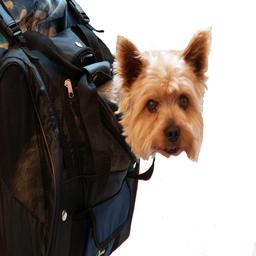dog: (144, 41, 256, 239)
